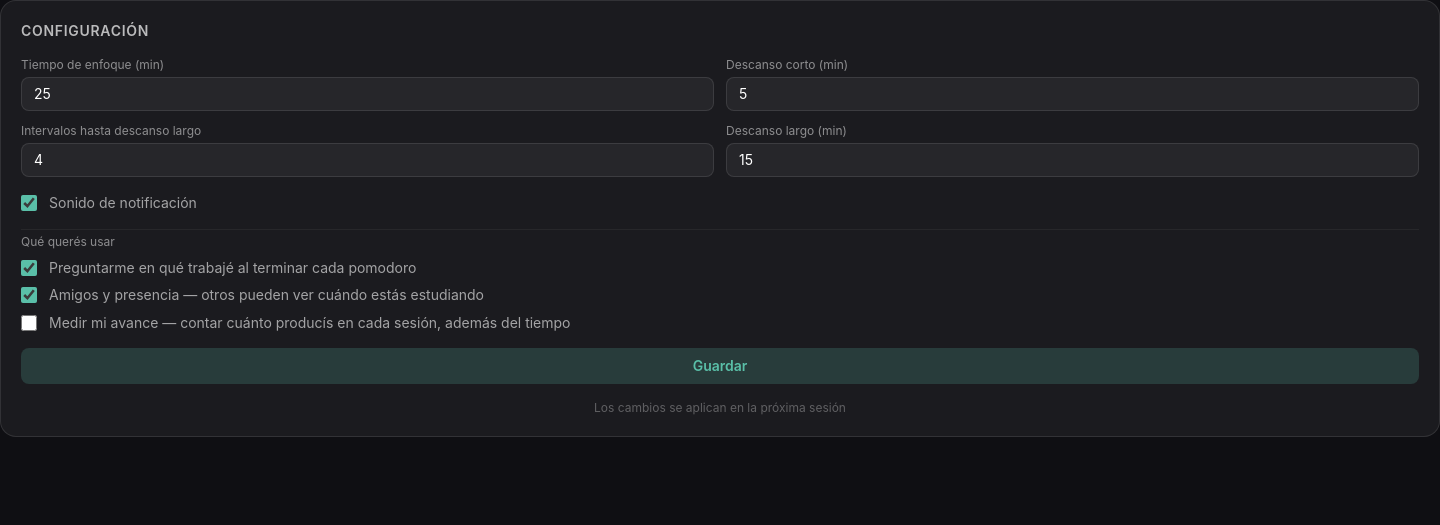
Test: SettingsPanel — unidad de avance › tildarla muestra los chips
Click the checkbox labelled "Medir mi avance".
click(29, 322)  # box [21,314,37,330]
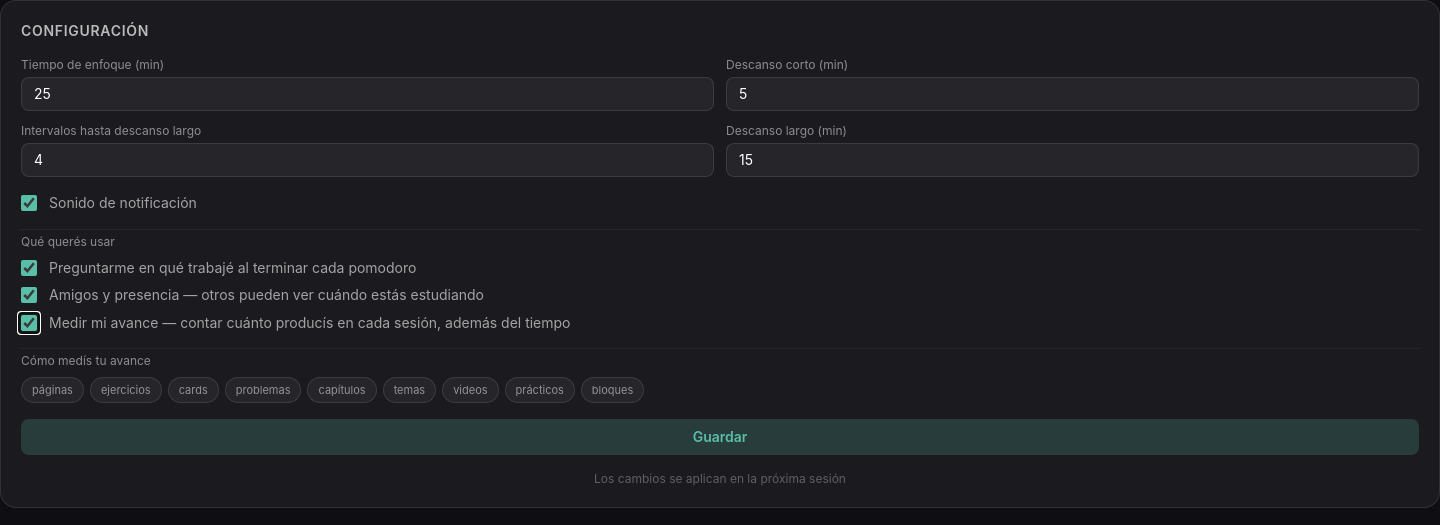
Result: the button "cards" is shown at [168,377,219,403]
